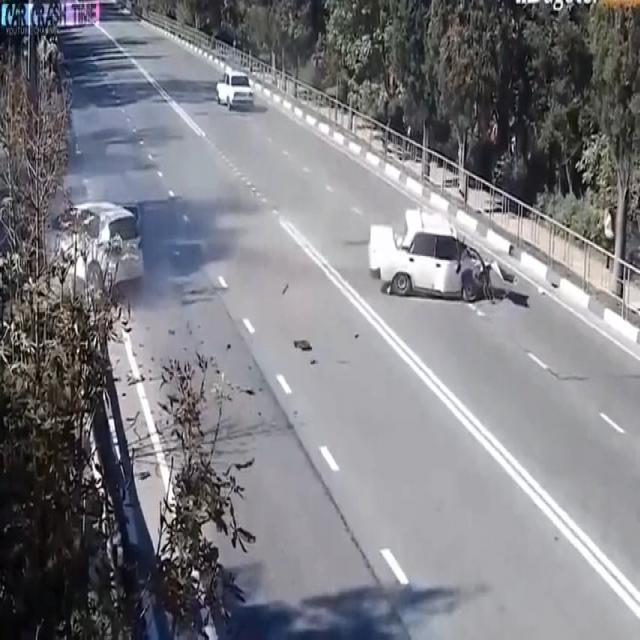Accident: (22, 153, 182, 336), (357, 157, 489, 332)
